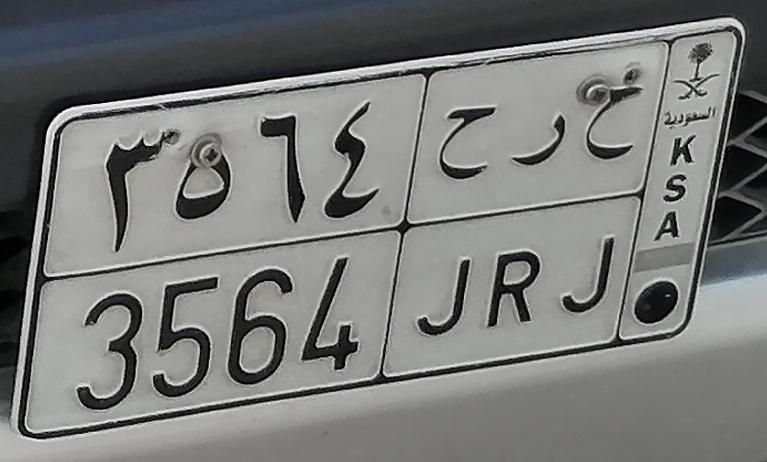3: (75, 121, 161, 417)
4: (303, 95, 381, 374)
5: (148, 141, 232, 401)
6: (225, 110, 308, 388)
J: (412, 91, 496, 348), (562, 82, 645, 313)
R: (486, 109, 568, 335)
